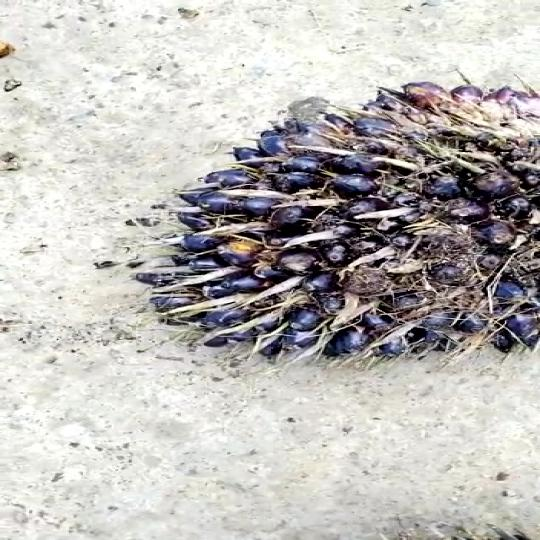mentah: (136, 87, 540, 355)
